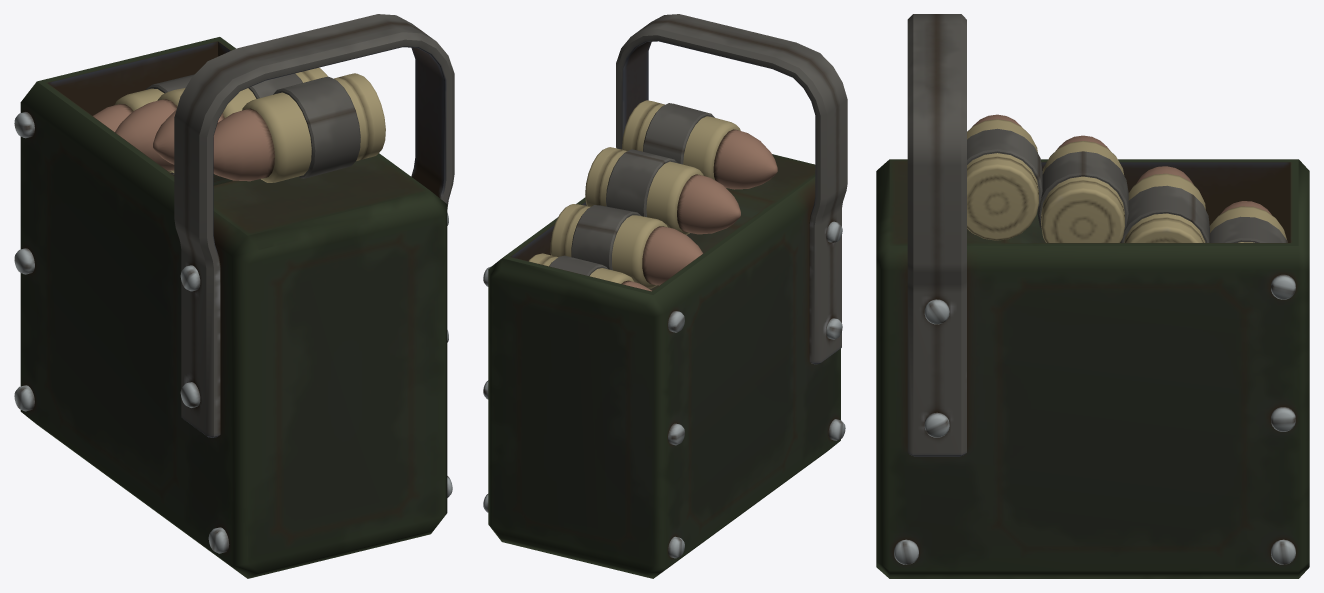
The model's file is R_lower_arm_gun_02_C1_Mag_02.fbx.
The picture shows the model from 3 angles, left to right: view 1: azimuth 30°, elevation 25°; view 2: azimuth 150°, elevation 25°; view 3: azimuth 270°, elevation 25°; orthographic projection. The views are drawn at different scales.
Parts seen in each view (by area): view 1: R_lower_arm_gun_02_C1_Mag_02; view 2: R_lower_arm_gun_02_C1_Mag_02; view 3: R_lower_arm_gun_02_C1_Mag_02.
Part boxes in pixels (<box>): R_lower_arm_gun_02_C1_Mag_02: <box>14,14,454,578</box>; R_lower_arm_gun_02_C1_Mag_02: <box>483,14,847,578</box>; R_lower_arm_gun_02_C1_Mag_02: <box>876,14,1309,578</box>.
Size of the model in its own units: 16.38 by 30.15 by 24.56.
